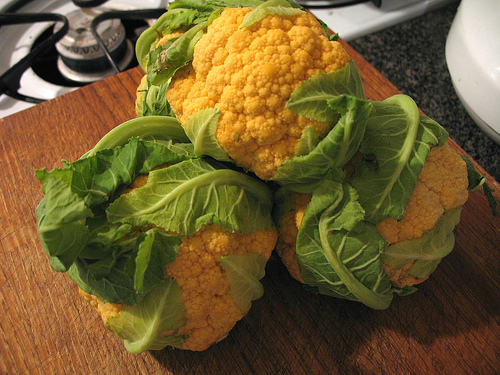cauliflower: (61, 155, 282, 355), (278, 94, 470, 310), (150, 0, 357, 180)
